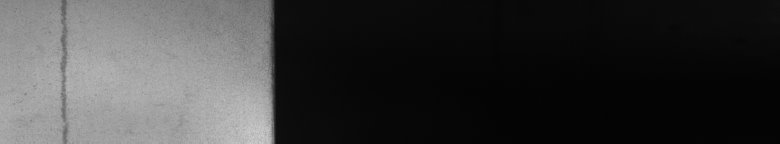hd: (52, 4, 72, 136)
